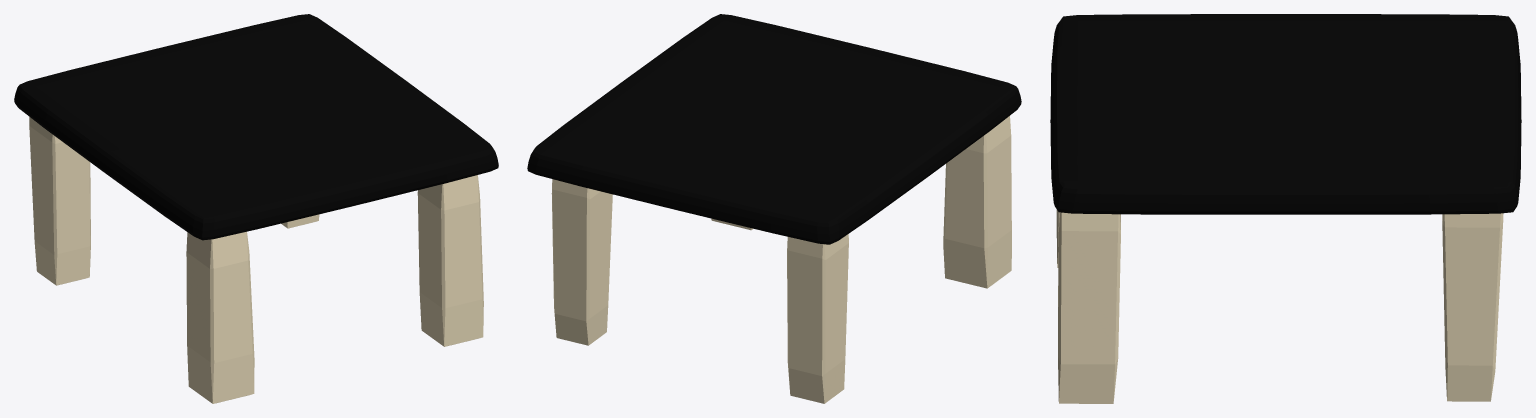
Rendered from mesa_pueblito.glb.
3 renders of one model, left to right at view 1: azimuth 30°, elevation 25°; view 2: azimuth 150°, elevation 25°; view 3: azimuth 270°, elevation 25°, orthographic. The views are drawn at different scales.
Visible parts, largest first — view 1: Cube, Cube.002, Cube.001, Cube.003; view 2: Cube, Cube.002, Cube.003, Cube.004; view 3: Cube, Cube.001, Cube.004.
Boxes of the visible parts, <box> form: Cube: <box>14,14,498,240</box>; Cube.002: <box>186,231,254,403</box>; Cube.001: <box>417,175,483,346</box>; Cube.003: <box>29,117,90,285</box>; Cube: <box>527,14,1021,244</box>; Cube.002: <box>943,116,1011,288</box>; Cube.003: <box>787,234,848,403</box>; Cube.004: <box>551,179,612,345</box>; Cube: <box>1050,14,1521,214</box>; Cube.001: <box>1058,212,1120,403</box>; Cube.004: <box>1442,213,1503,401</box>.
Bounding box in the file's own units: 3.39 × 1.97 × 3.72.
